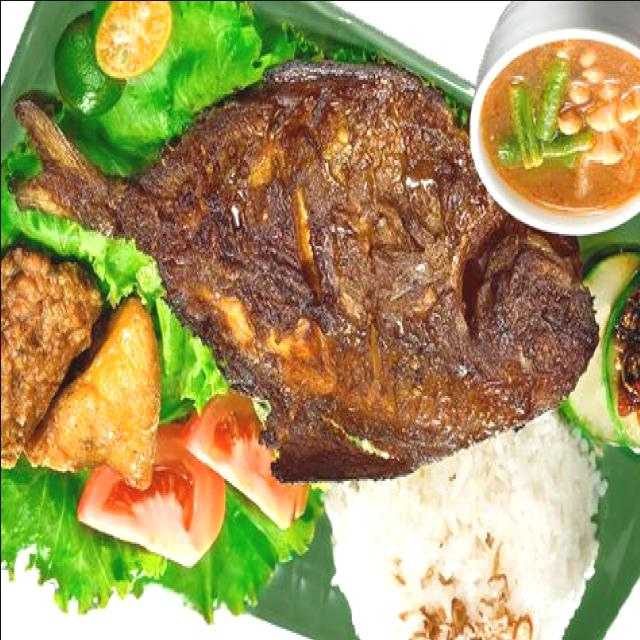ikan bakar: (12, 65, 599, 482)
